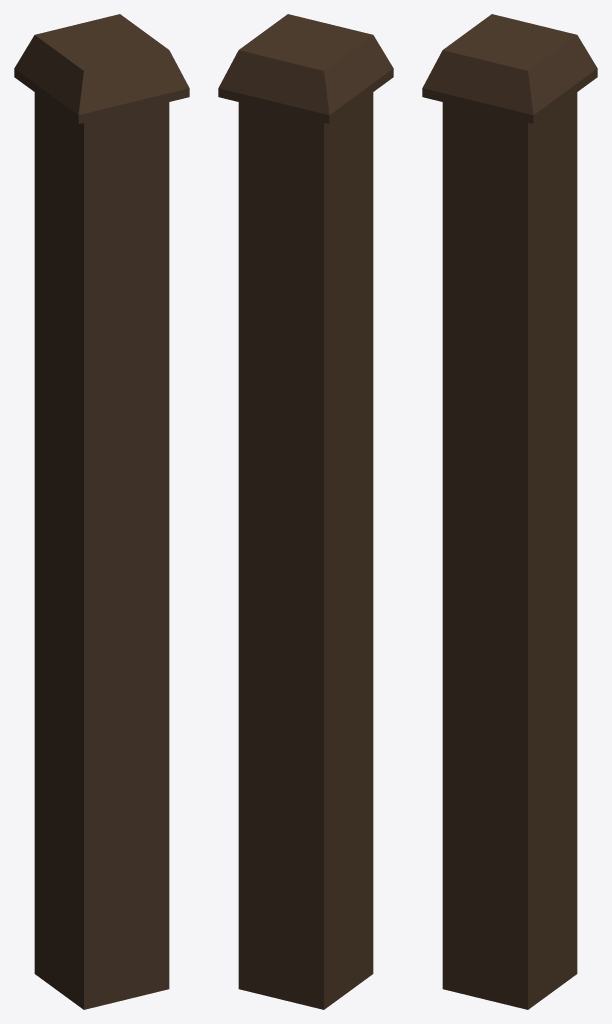
File: Barn Fence Post End or Corner.glb
The picture shows the model from 3 angles, left to right: view 1: azimuth 30°, elevation 25°; view 2: azimuth 150°, elevation 25°; view 3: azimuth 330°, elevation 25°; orthographic projection.
Visible parts, largest first — view 1: Fence Post end or corner; view 2: Fence Post end or corner; view 3: Fence Post end or corner.
Part boxes in pixels (<box>): Fence Post end or corner: <box>14,14,189,1009</box>; Fence Post end or corner: <box>218,14,393,1009</box>; Fence Post end or corner: <box>422,14,597,1009</box>.
Size of the model in its own units: 0.26 by 2.1 by 0.26.
Materials: 1 (1 with a texture image).
